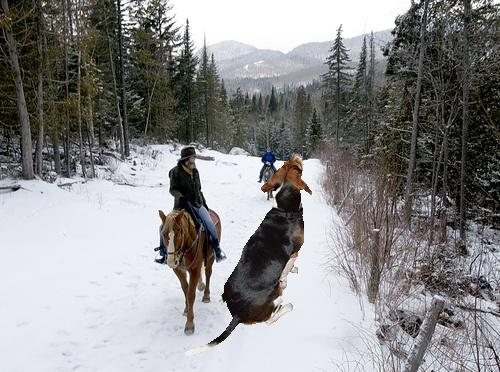tampered: (185, 152, 312, 356)
